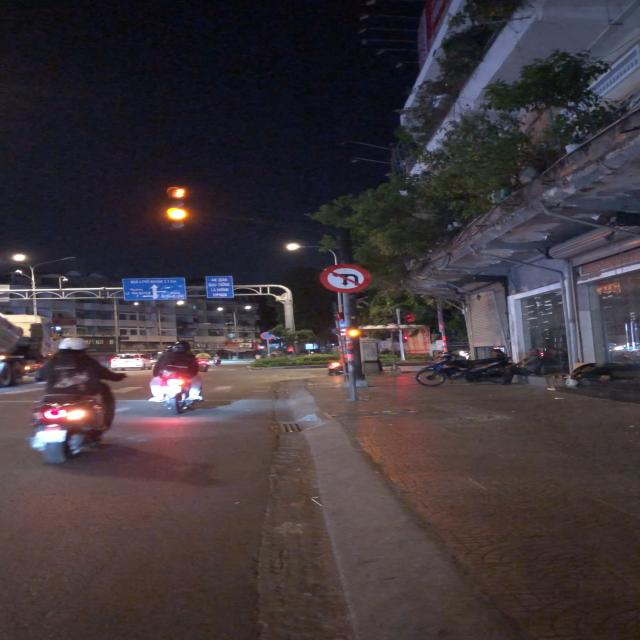Bien bao cam re trai va quay dau: (319, 263, 371, 294)
